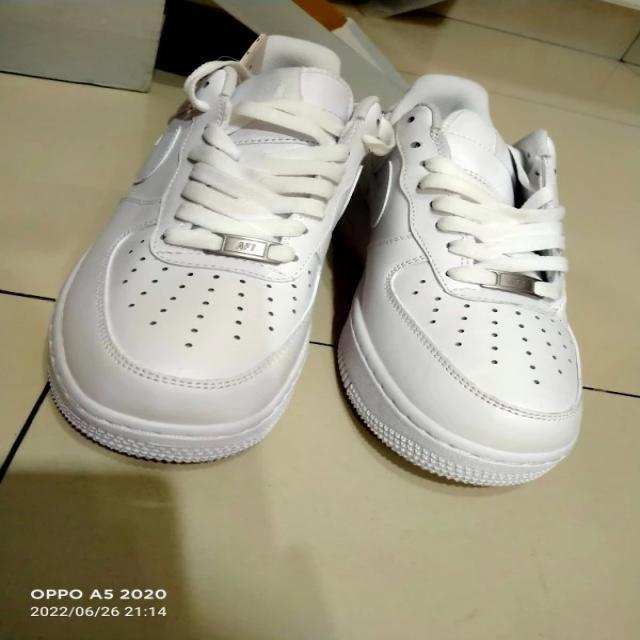nike original air force: (42, 34, 382, 462), (332, 72, 584, 491)
